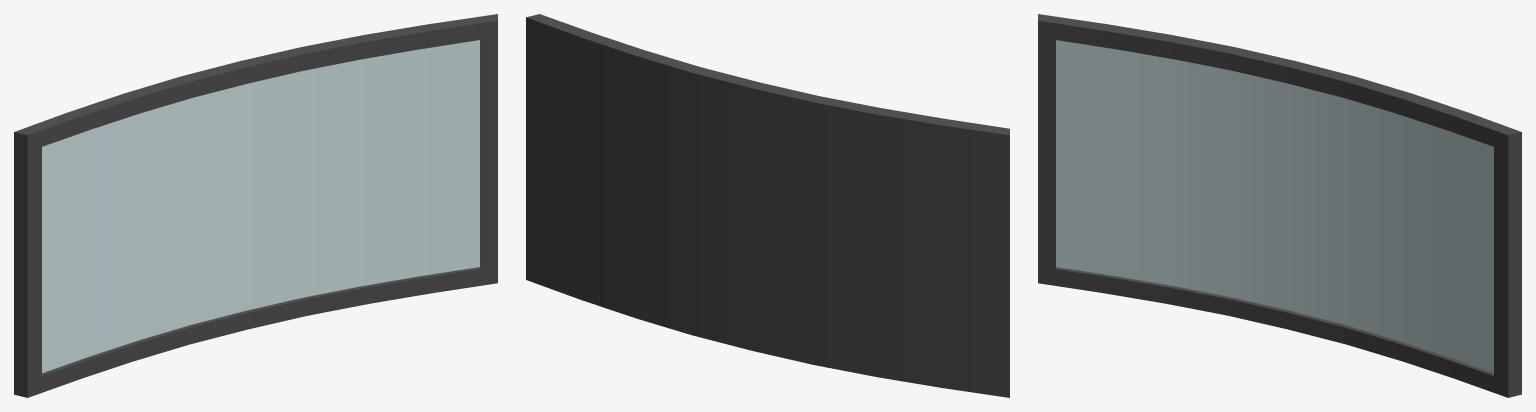
File: Itr_Obj_Monitor_LCD_Curved_Screen_On_05.FBX
3 renders of one model, left to right at view 1: azimuth 30°, elevation 25°; view 2: azimuth 150°, elevation 25°; view 3: azimuth 330°, elevation 25°, orthographic.
Visible parts, largest first — view 1: Itr_Obj_Monitor_LCD_Curved_Screen_On_05; view 2: Itr_Obj_Monitor_LCD_Curved_Screen_On_05; view 3: Itr_Obj_Monitor_LCD_Curved_Screen_On_05.
Part boxes in pixels (x1=…): Itr_Obj_Monitor_LCD_Curved_Screen_On_05: x1=14, y1=14, x2=497, y2=397; Itr_Obj_Monitor_LCD_Curved_Screen_On_05: x1=526, y1=14, x2=1009, y2=397; Itr_Obj_Monitor_LCD_Curved_Screen_On_05: x1=1038, y1=14, x2=1521, y2=397.
Size of the model in its own units: 67.75 by 35.13 by 5.58.
